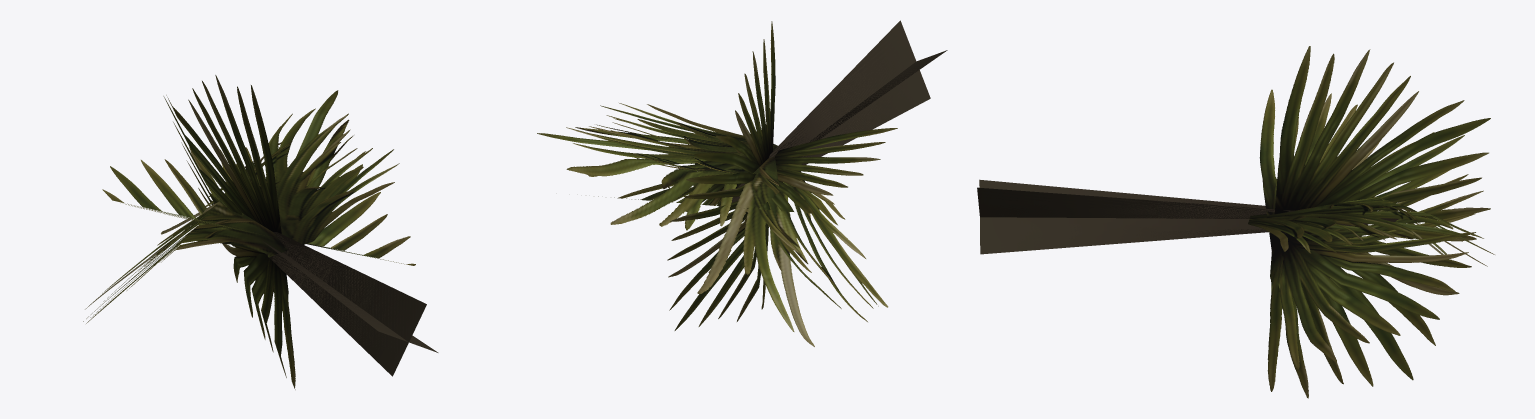
The model's file is MEP_Pandani_01_LOD_02.fbx.
3 renders of one model, left to right at view 1: azimuth 30°, elevation 25°; view 2: azimuth 150°, elevation 25°; view 3: azimuth 270°, elevation 25°, orthographic. The views are drawn at different scales.
Parts seen in each view (by area): view 1: MEP_Pandani_01_LOD_02; view 2: MEP_Pandani_01_LOD_02; view 3: MEP_Pandani_01_LOD_02.
Part boxes in pixels (x1,y1,x2,y2): MEP_Pandani_01_LOD_02: [83, 75, 438, 389]; MEP_Pandani_01_LOD_02: [537, 20, 947, 346]; MEP_Pandani_01_LOD_02: [977, 46, 1494, 398].
Bounding box in the file's own units: 4.11 × 3.45 × 4.73.
